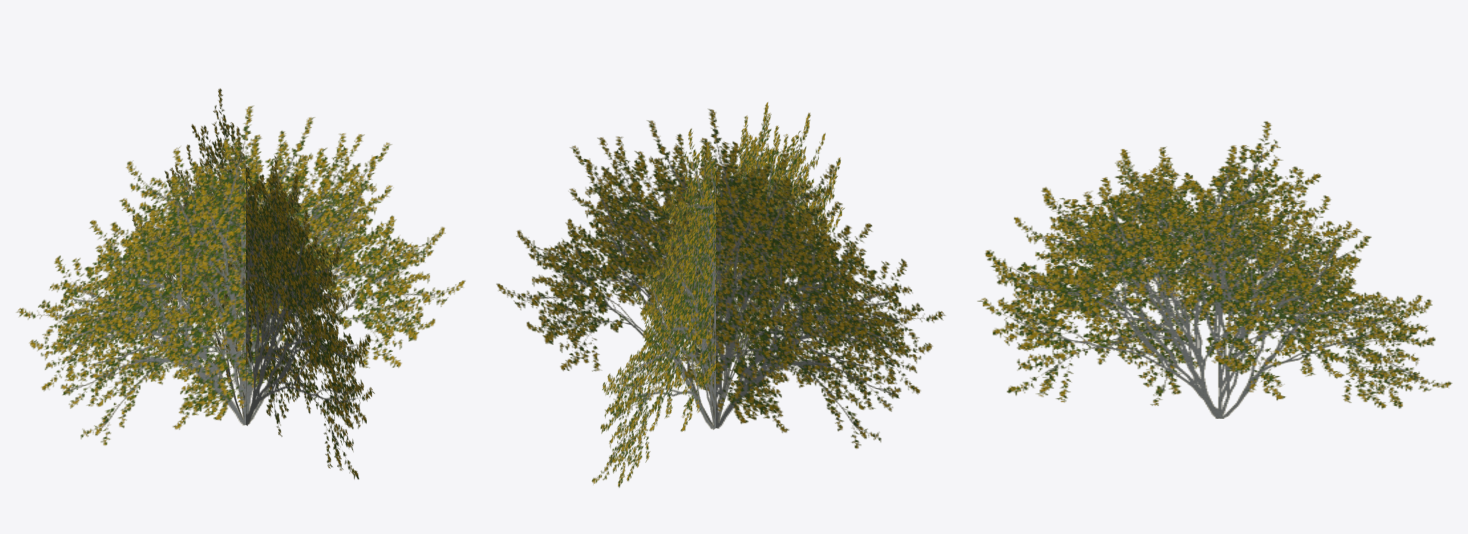
Rendered from FremontodendronCalifornicum.glb.
3 renders of one model, left to right at view 1: azimuth 30°, elevation 25°; view 2: azimuth 150°, elevation 25°; view 3: azimuth 270°, elevation 25°, orthographic. The views are drawn at different scales.
Parts seen in each view (by area): view 1: mesh__mat_billboard_11; view 2: mesh__mat_billboard_11; view 3: mesh__mat_billboard_11.
Part boxes in pixels (<box>): mesh__mat_billboard_11: <box>16,88,465,479</box>; mesh__mat_billboard_11: <box>496,102,945,487</box>; mesh__mat_billboard_11: <box>977,121,1452,418</box>.
Bounding box in the file's own units: 3.15 × 2.12 × 3.07.
Materials: 1 (1 with a texture image).
